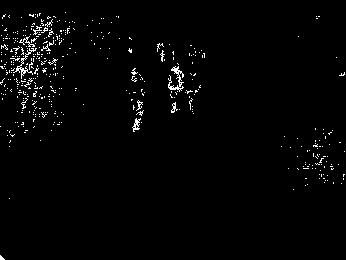person: (124, 67, 146, 132), (165, 64, 184, 114)
